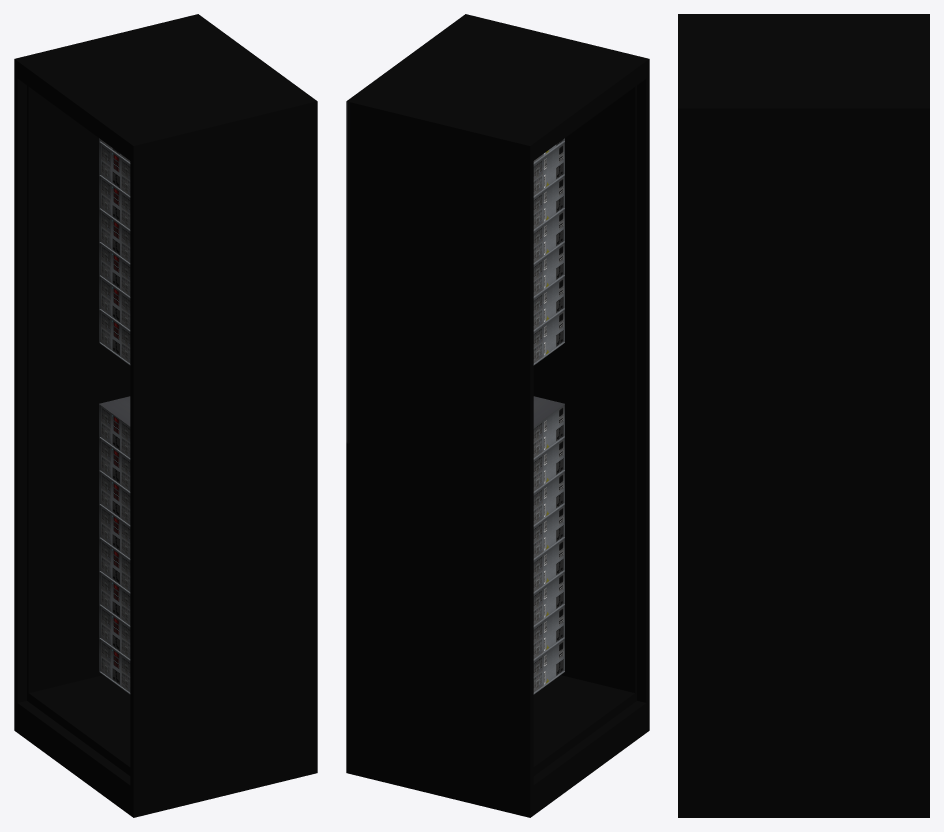
The model's file is SuperComputer.FBX.
3 renders of one model, left to right at view 1: azimuth 30°, elevation 25°; view 2: azimuth 150°, elevation 25°; view 3: azimuth 270°, elevation 25°, orthographic. The views are drawn at different scales.
Parts seen in each view (by area): view 1: Plane006; view 2: Plane006; view 3: Plane006.
Boxes of the visible parts, bbox=[...] form: Plane006: bbox=[14, 14, 317, 817]; Plane006: bbox=[346, 14, 649, 817]; Plane006: bbox=[678, 14, 929, 817].
Size of the model in its own units: 822 by 2867 by 923.
1 material, 1 textured.
